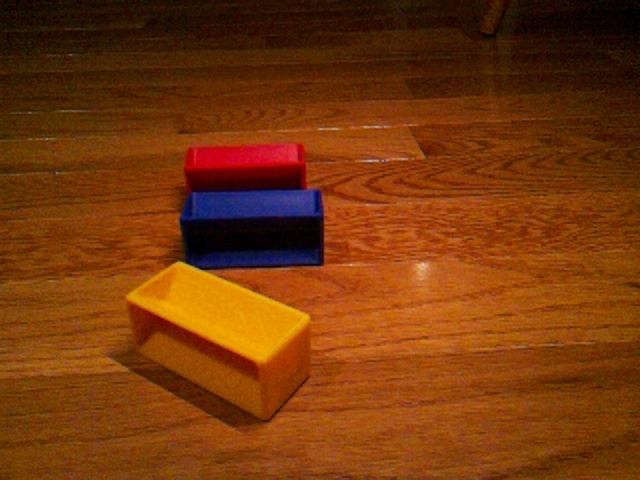blue: (179, 188, 326, 269)
red: (183, 141, 308, 192)
yellow: (124, 260, 313, 422)
